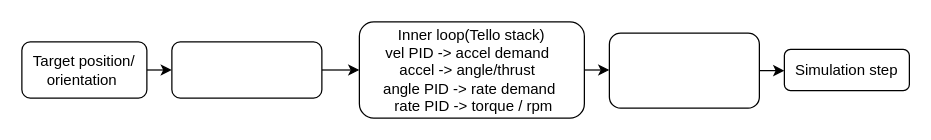
The diagram is 931 pixels wide and 140 high, and some of its shapes have lost their labels. The centre of each missing label's shape, as x and y in pixels:
"Airframe + motor lag + drag + wind disturbance" belongs at [683,70].
"Outer loop controller (controller.py)" belongs at [246,69].
